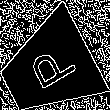P_SW: (19, 40, 77, 97)
